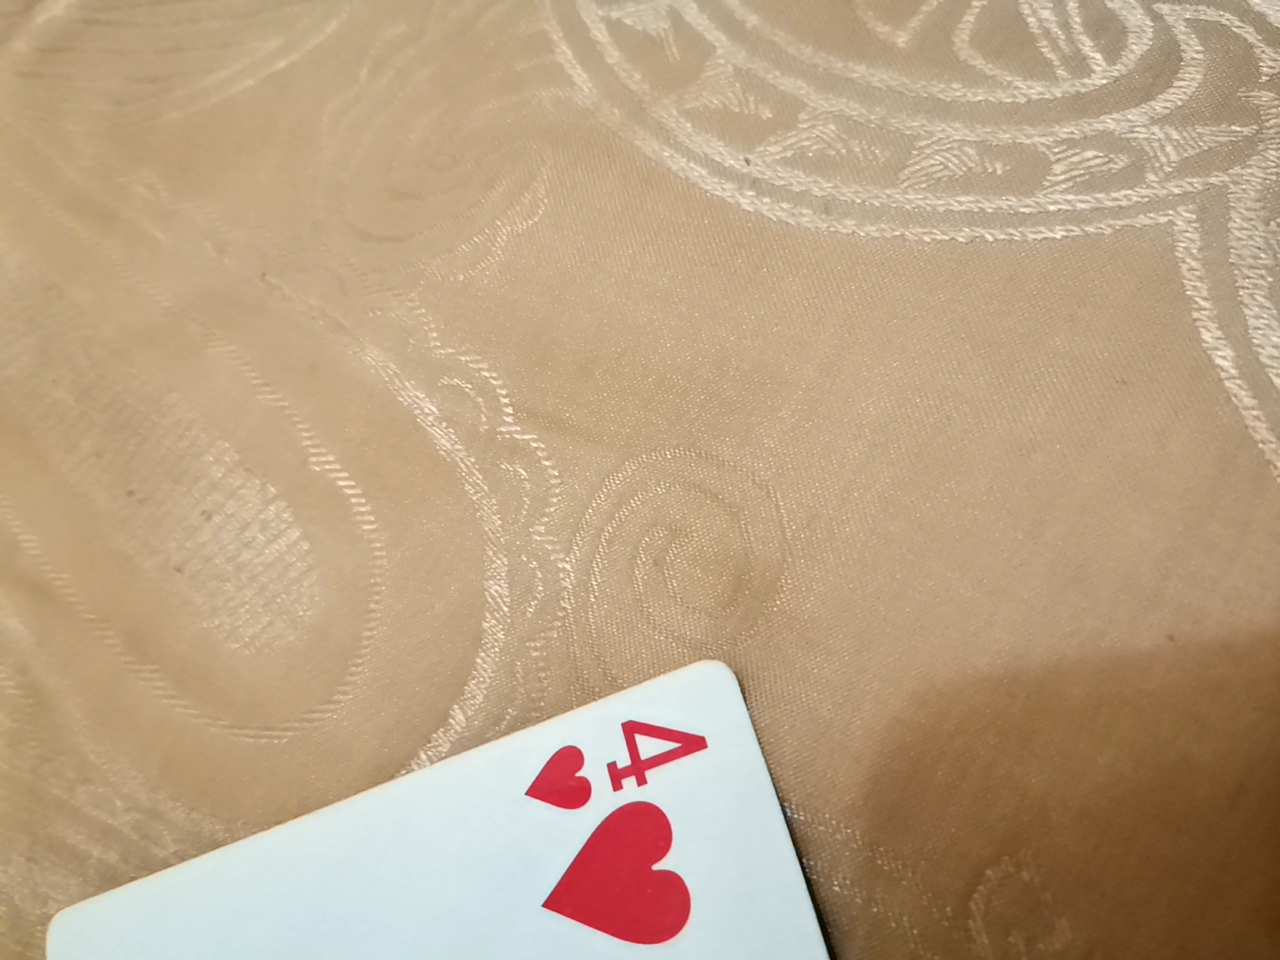hx 4: (24, 668, 1001, 959)
